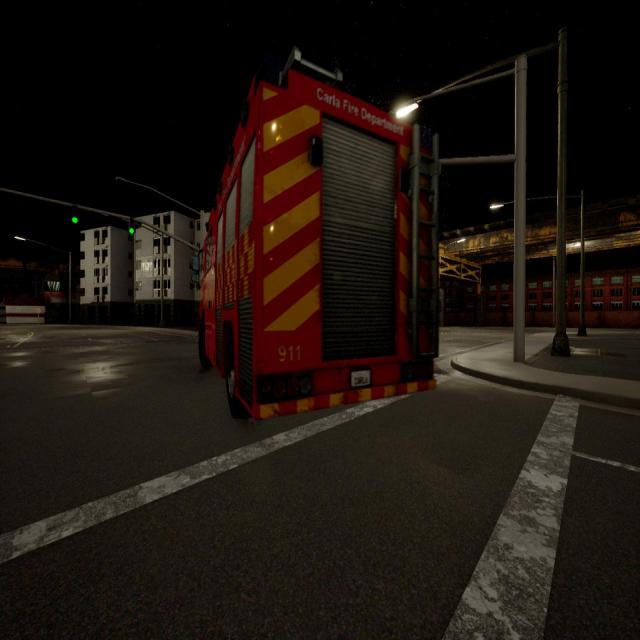Traffic_Signs: (36, 309, 40, 313)
Vehicle: (201, 71, 435, 415)
traffic_light: (72, 205, 78, 223), (129, 217, 134, 234)
